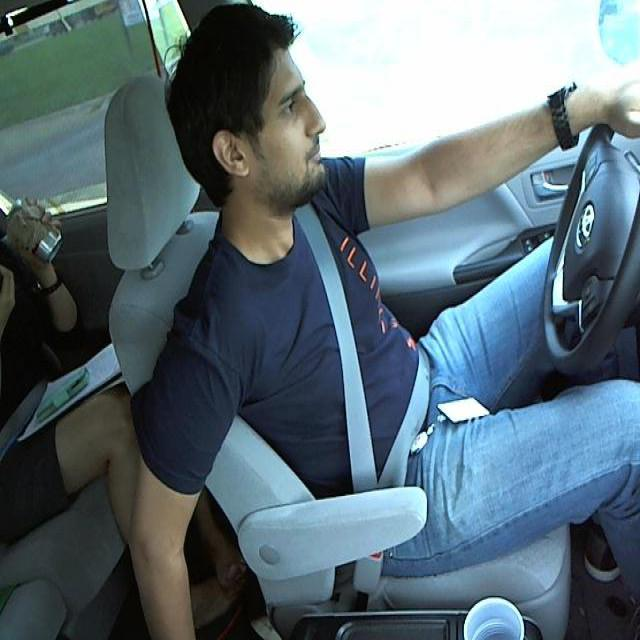seatbelt: (300, 240, 441, 493)
